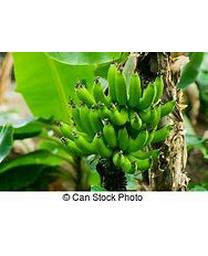banana: (67, 67, 175, 176)
